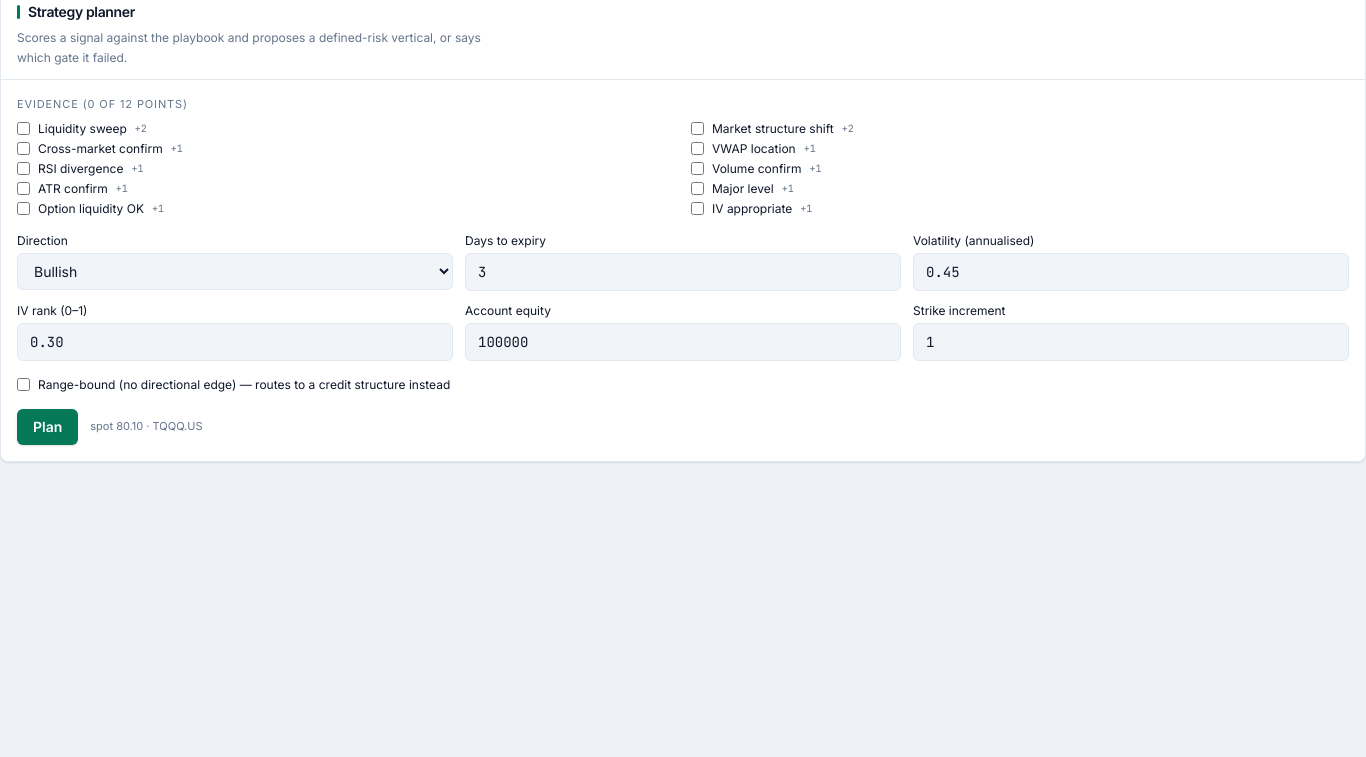
OptionPlanner › renders a plan with its modelled-pricing caveat attached
The image size is (1366, 757).
Click the button "Plan".
click(48, 426)  # box x1=17 y1=408 x2=78 y2=444
(page scrolled)
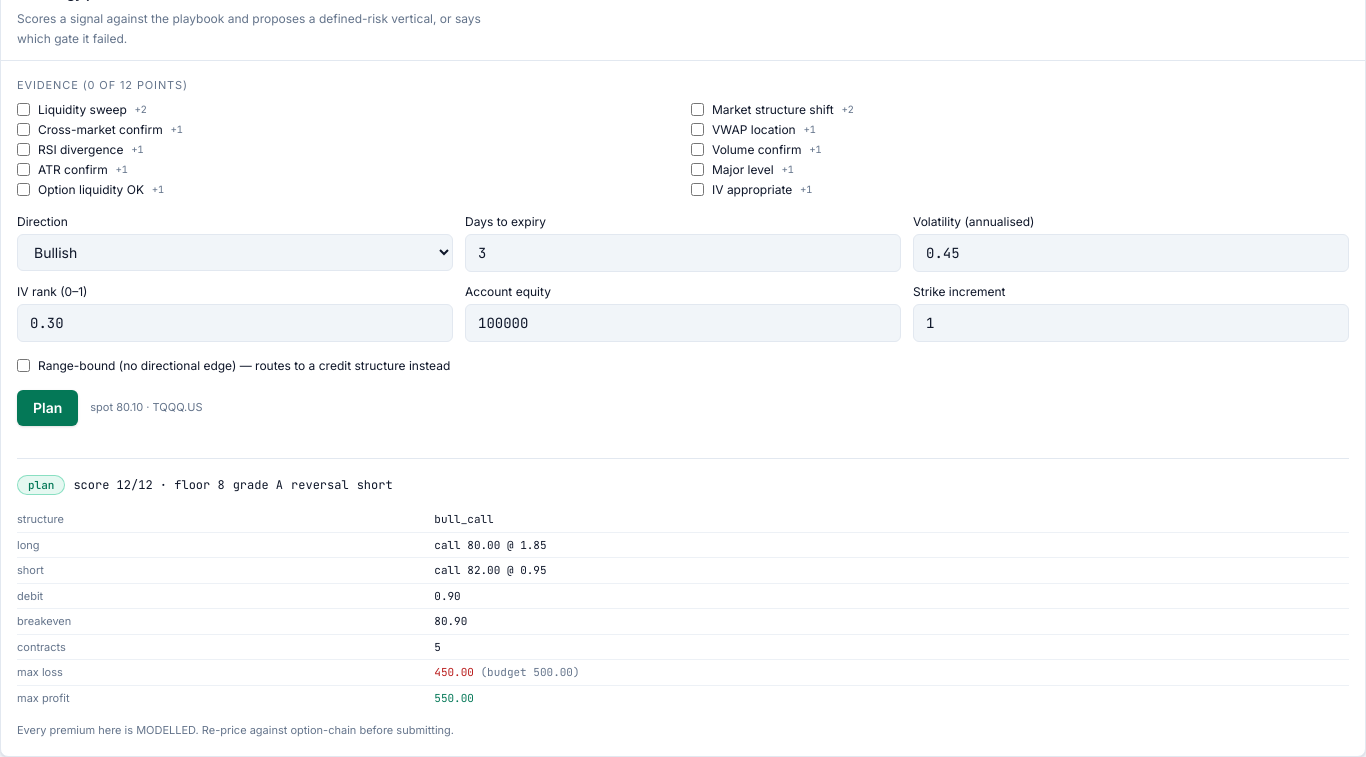
Now the table with test id "plan-spread" is shown, box x1=17 y1=507 x2=1349 y2=710
Now the text "bull_call" is shown, box x1=434 y1=507 x2=1349 y2=532
Now the text "450.00 (budget 500.00)" is shown, box x1=434 y1=660 x2=1349 y2=685
